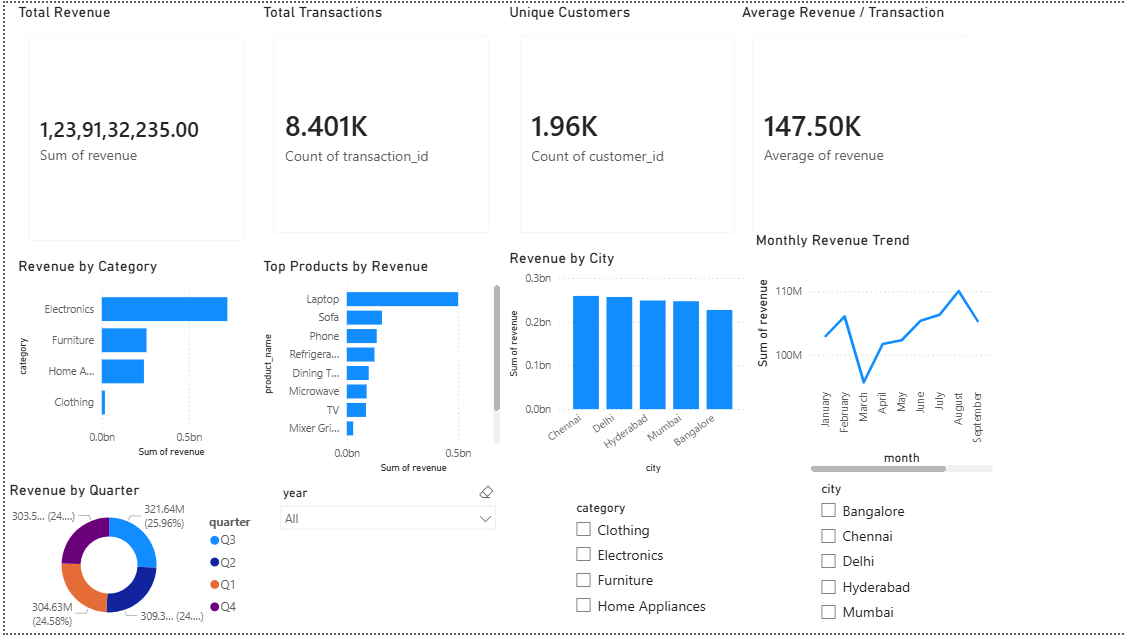

What the dashboard file says about the page in this screenshot:
{"tool":"powerbi","page":{"name":"Page 1","canvas":[1280,720],"ordinal":0},"visuals":[{"type":"cardVisual","title":"Total Revenue","fields":{"Data":["Sum(Sheet1.revenue)"]},"box":[10,0,280,290],"z":0},{"type":"cardVisual","title":"Total Transactions","fields":{"Data":["CountNonNull(Sheet1.transaction_id)"]},"box":[290.1,0,280.7,280.7],"z":1000},{"type":"cardVisual","title":"Unique Customers","fields":{"Data":["Count(Sheet1.customer_id)"]},"box":[570.8,0,280.7,280.7],"z":2000},{"type":"cardVisual","title":"Average Revenue / Transaction","fields":{"Data":["Avg(Sheet1.revenue)"]},"box":[837.1,0,281.4,280],"z":3000},{"type":"clusteredBarChart","title":"Revenue by Category","fields":{"Category":["Sheet1.category"],"Y":["Sum(Sheet1.revenue)"]},"box":[9.6,289.5,279.9,234.6],"z":4000},{"type":"clusteredBarChart","title":"Top Products by Revenue","fields":{"Category":["Sheet1.product_name"],"Y":["Sum(Sheet1.revenue)"]},"box":[289.5,289.5,281.3,252.5],"z":5000},{"type":"clusteredColumnChart","title":"Revenue by City","fields":{"Category":["Sheet1.city"],"Y":["Sum(Sheet1.revenue)"]},"box":[570.8,281.3,281.3,260.7],"z":6000},{"type":"donutChart","title":"Revenue by Quarter","fields":{"Category":["Sheet1.quarter"],"Y":["Sum(Sheet1.revenue)"]},"box":[0,545.7,304.3,174.3],"z":7000},{"type":"lineChart","title":"Monthly Revenue Trend","fields":{"Category":["Sheet1.month"],"Y":["Sum(Sheet1.revenue)"]},"box":[852.9,260,281.4,281.4],"z":8000},{"type":"slicer","fields":{"Values":["Sheet1.category"]},"box":[640,562.9,280,157.1],"z":9000},{"type":"slicer","fields":{"Values":["Sheet1.city"]},"box":[920,541.4,280,178.6],"z":10000},{"type":"slicer","fields":{"Values":["Sheet1.year"]},"box":[304,546,267,174],"z":10001}]}

Visuals, with their boxes in screenshot pixels (x1, y1, x2, y2), scaled from the page's 1280x720 canvas onto the 1125x635 screenshot:
"Total Revenue" cardVisual: l=9, t=0, r=255, b=256
"Total Transactions" cardVisual: l=255, t=0, r=502, b=248
"Unique Customers" cardVisual: l=502, t=0, r=748, b=248
"Average Revenue / Transaction" cardVisual: l=736, t=0, r=983, b=247
"Revenue by Category" clusteredBarChart: l=8, t=255, r=254, b=462
"Top Products by Revenue" clusteredBarChart: l=254, t=255, r=502, b=478
"Revenue by City" clusteredColumnChart: l=502, t=248, r=749, b=478
"Revenue by Quarter" donutChart: l=0, t=481, r=267, b=634
"Monthly Revenue Trend" lineChart: l=750, t=229, r=997, b=477
slicer - Sheet1.category: l=562, t=496, r=809, b=634
slicer - Sheet1.city: l=809, t=477, r=1055, b=634
slicer - Sheet1.year: l=267, t=482, r=502, b=634
